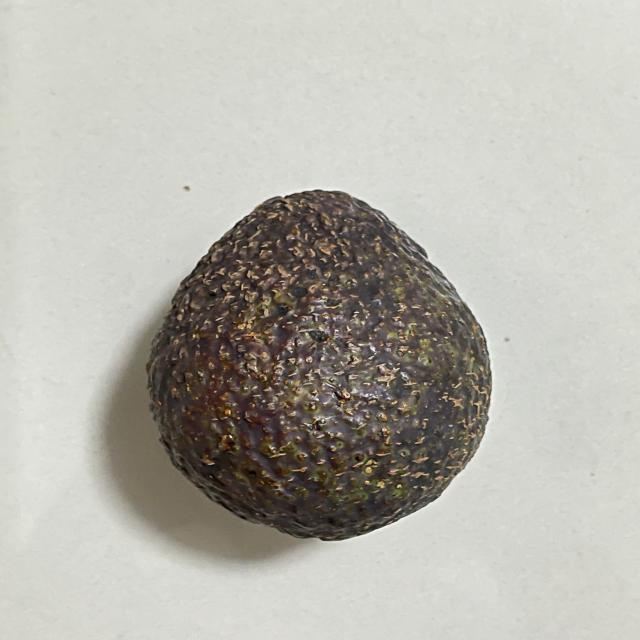Level2: (138, 181, 502, 549)
